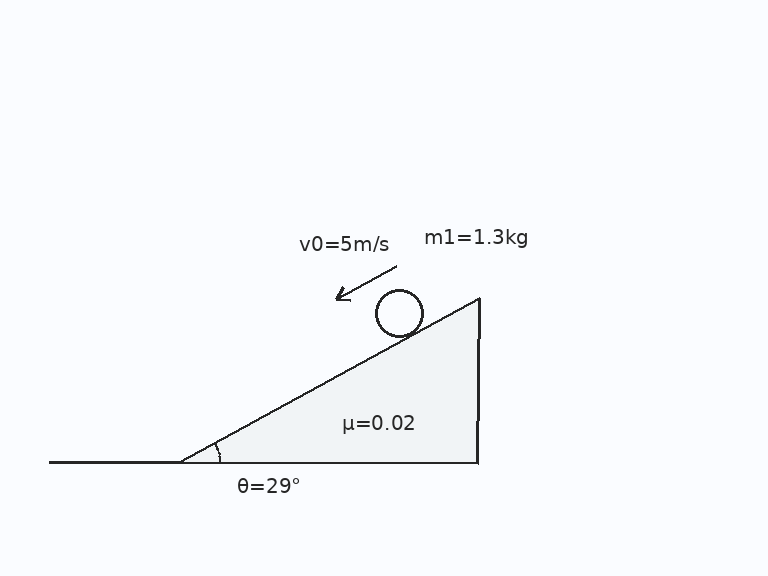ball: (373, 287, 425, 339)
ramp: (178, 295, 479, 464)
